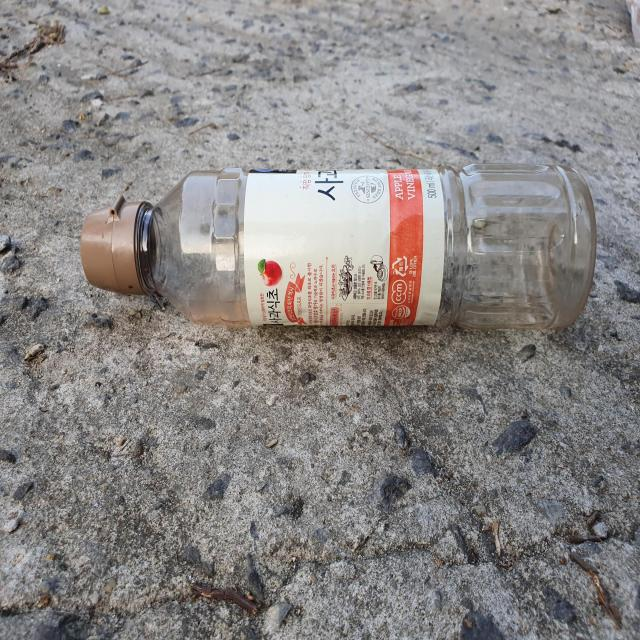plastic: (80, 164, 597, 329)
